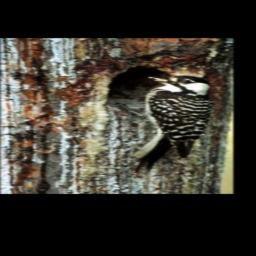Woodpecker: (130, 74, 212, 173)
